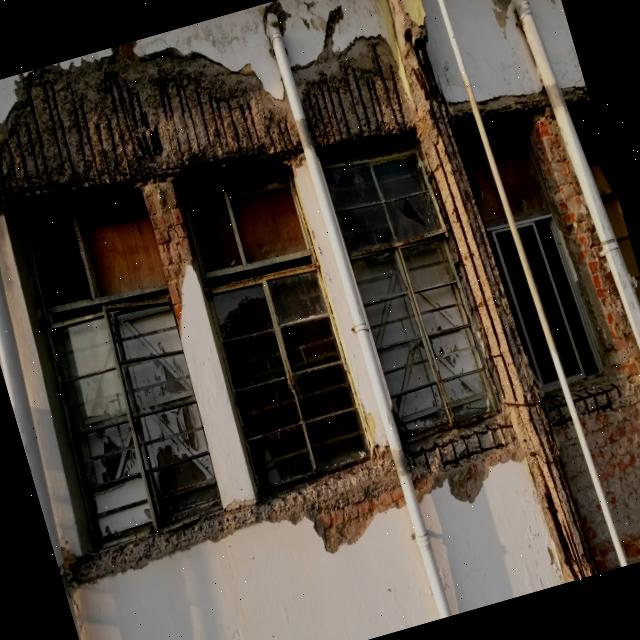Broken window pane: (384, 0, 597, 581), (324, 152, 441, 254)
Spalling: (385, 0, 597, 581), (67, 446, 404, 582), (0, 54, 301, 205), (300, 37, 409, 157), (404, 409, 521, 501), (301, 60, 383, 146), (573, 381, 622, 414)
exposed brickwork: (528, 88, 640, 573), (545, 392, 618, 572), (572, 374, 640, 563)
